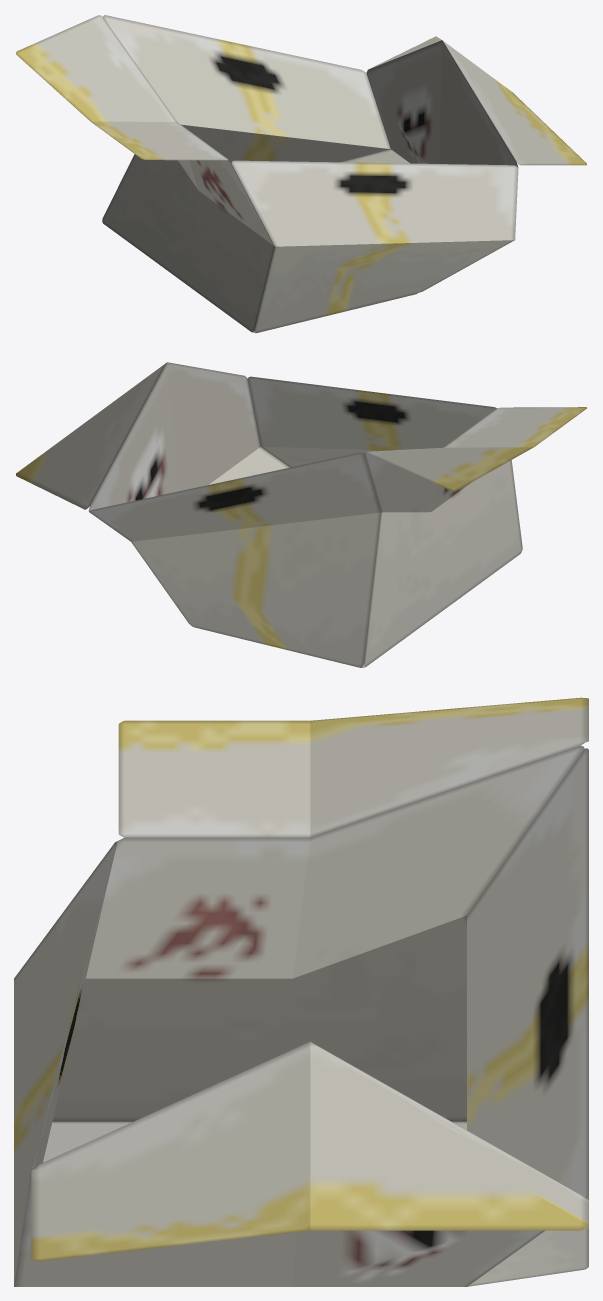
The model's file is BoxBroken2.fbx.
3 renders of one model, top to bottom at view 1: azimuth 30°, elevation 25°; view 2: azimuth 150°, elevation 25°; view 3: azimuth 270°, elevation 25°, orthographic. The views are drawn at different scales.
Parts seen in each view (by area): view 1: BoxBroken2; view 2: BoxBroken2; view 3: BoxBroken2.
Boxes of the visible parts, left/top/right/bottom form: BoxBroken2: left=16, top=15, right=586, bottom=333; BoxBroken2: left=16, top=362, right=586, bottom=667; BoxBroken2: left=14, top=697, right=588, bottom=1286.
Bounding box in the file's own units: 159 × 75 × 103.
1 material, 1 textured.
